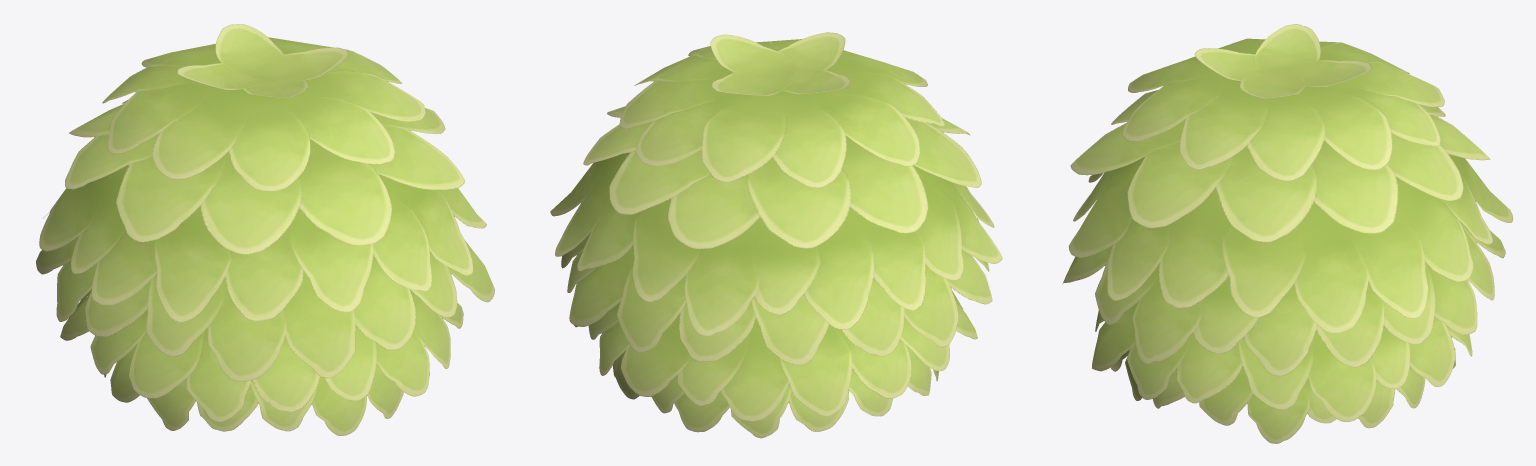
The model's file is Bush 1.fbx.
The picture shows the model from 3 angles, left to right: view 1: azimuth 30°, elevation 25°; view 2: azimuth 150°, elevation 25°; view 3: azimuth 270°, elevation 25°; orthographic projection.
Parts seen in each view (by area): view 1: Circle; view 2: Circle; view 3: Circle.
Boxes of the visible parts, x1=… form: Circle: x1=36, y1=24, x2=494, y2=435; Circle: x1=550, y1=32, x2=1002, y2=438; Circle: x1=1062, y1=24, x2=1513, y2=443.
Size of the model in its own units: 79.48 by 59.21 by 79.48.
